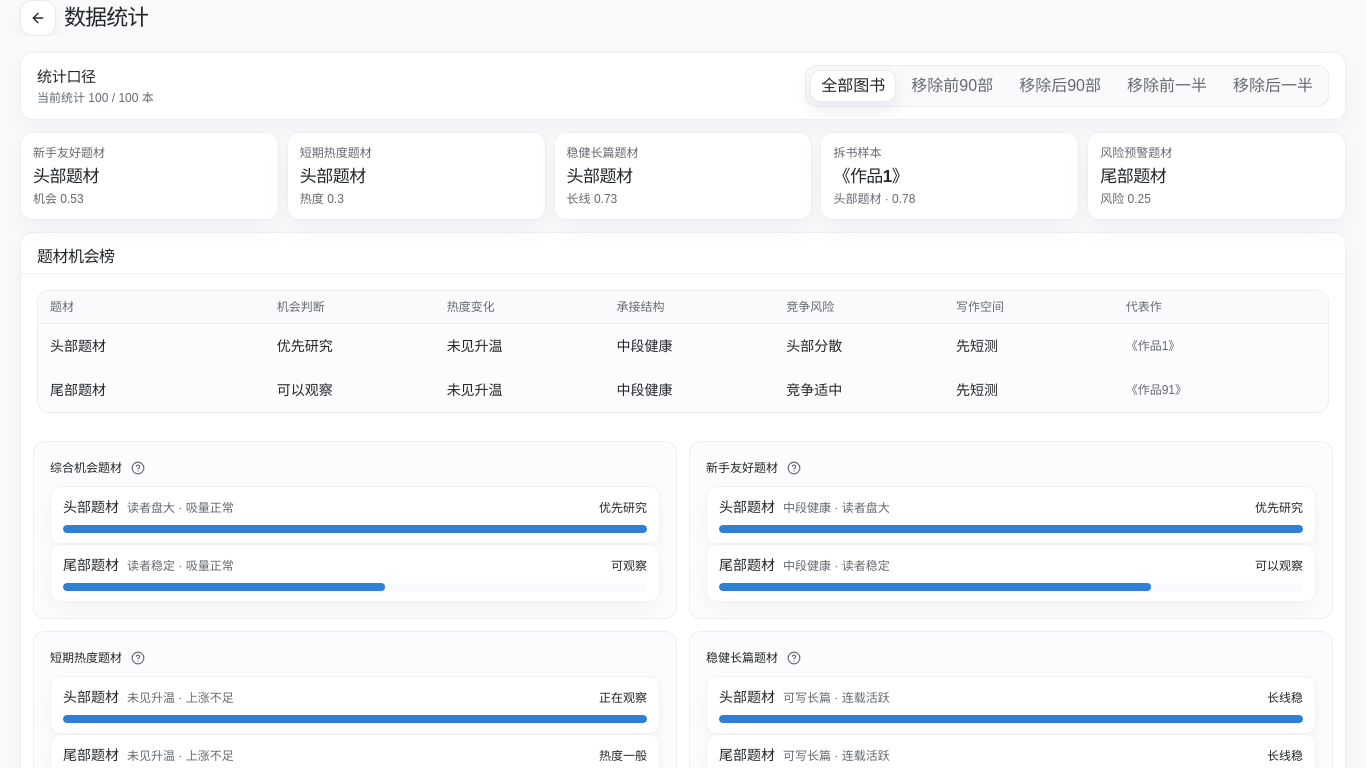
LeaderboardStatsPage › 支持移除前90部和后90部后重新统计
This screenshot has width=1366, height=768.
Check: the text "当前统计 100 / 100 本" is shown, box [37,90,154,106]
Click the button "移除前90部".
click(952, 86)  # box [900,70,1004,102]
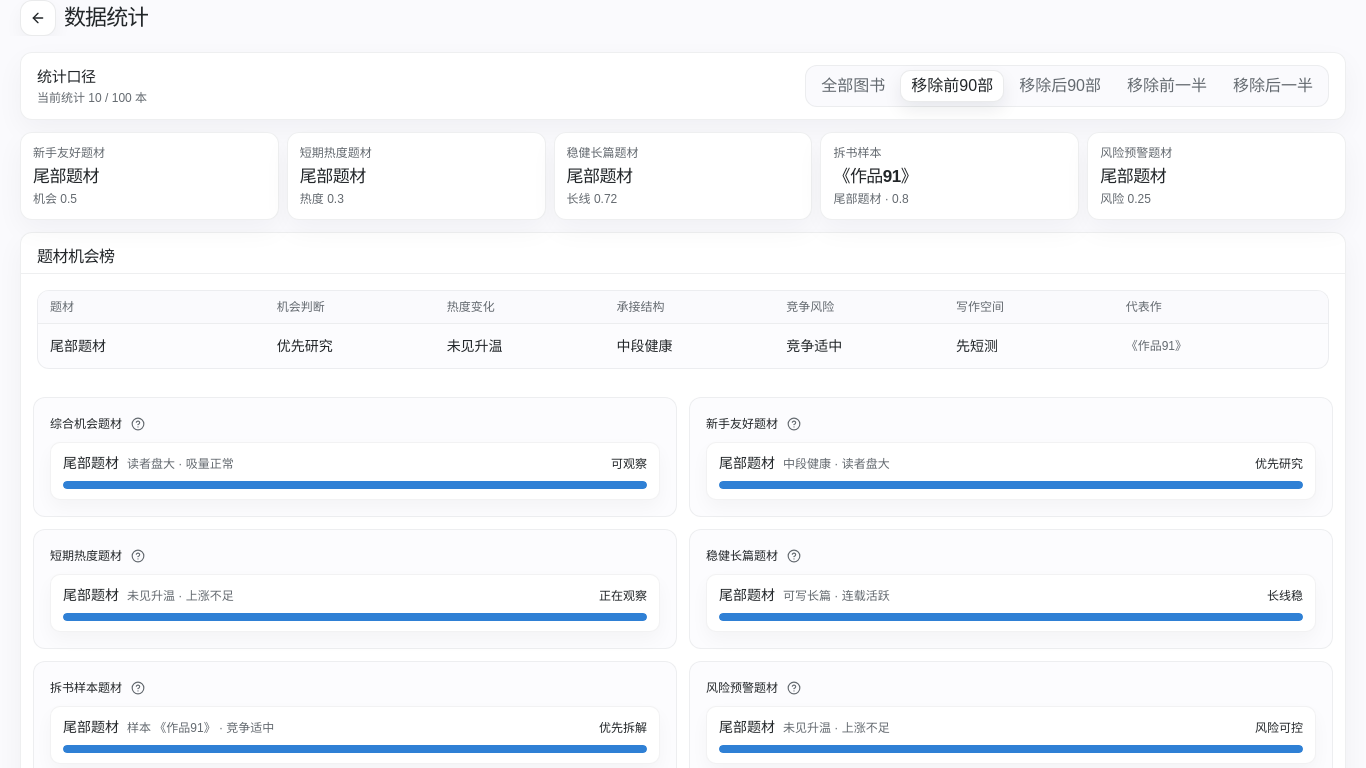
Check: the text "当前统计 10 / 100 本" is shown, box [37,90,147,106]
Check: the 1st text "尾部题材" is shown, box [33,167,99,186]
Click the button "移除后90部".
click(1060, 86)  # box [1008,70,1112,102]
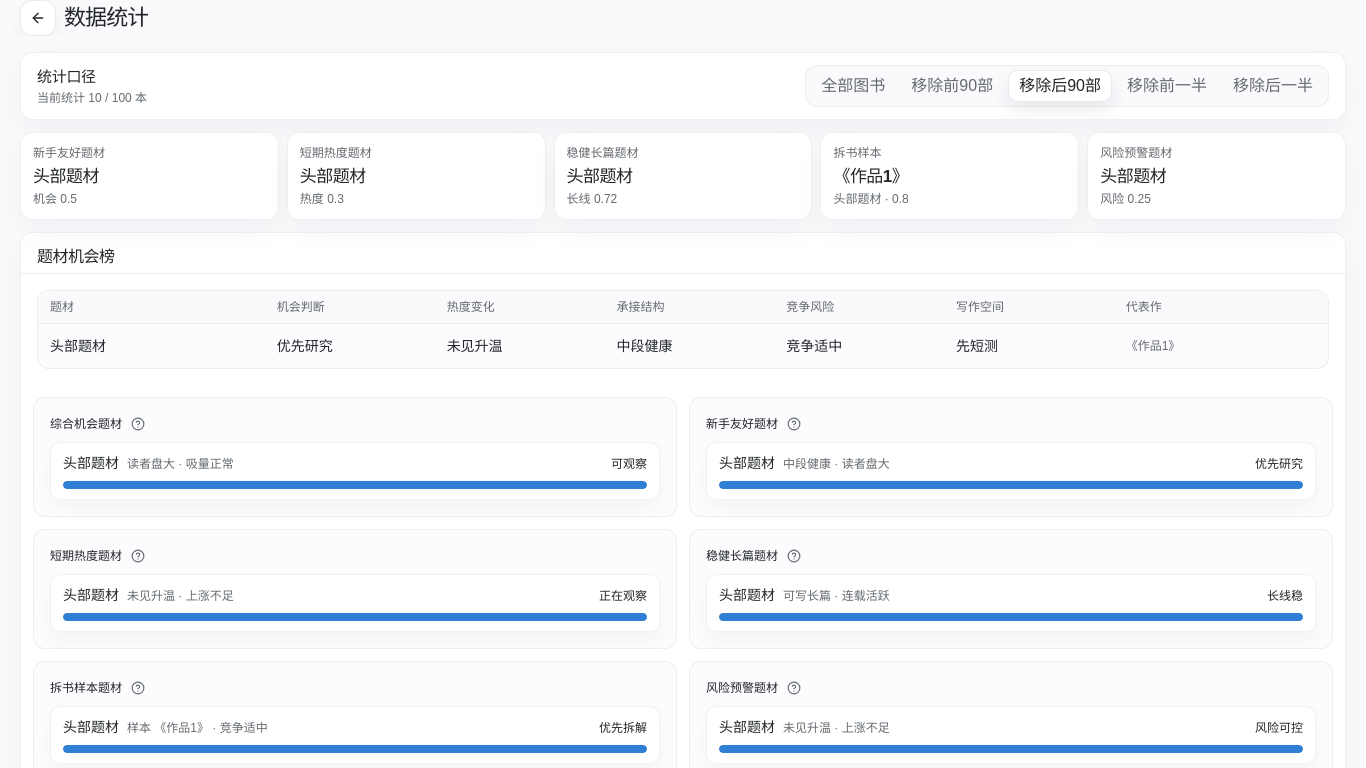
Check: the text "当前统计 10 / 100 本" is shown, box [37,90,147,106]
Check: the 1st text "头部题材" is shown, box [33,167,99,186]
